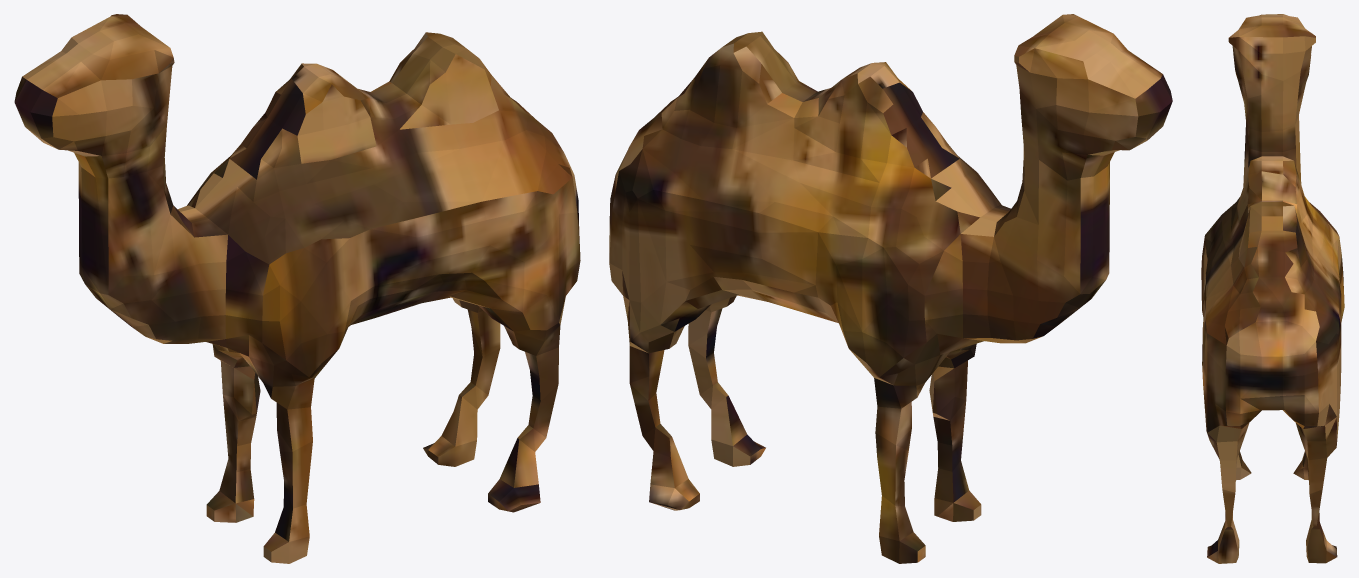
File: camel.glb
The picture shows the model from 3 angles, left to right: view 1: azimuth 30°, elevation 25°; view 2: azimuth 150°, elevation 25°; view 3: azimuth 270°, elevation 25°; orthographic projection. The views are drawn at different scales.
Visible parts, largest first — view 1: material.001; view 2: material.001; view 3: material.001.
Part boxes in pixels (left/top/right/bottom): material.001: left=14, top=14, right=580, bottom=563; material.001: left=609, top=14, right=1172, bottom=563; material.001: left=1201, top=14, right=1344, bottom=563.
Bounding box in the file's own units: 0.9039 × 0.8656 × 0.2766.
1 material, 1 textured.
